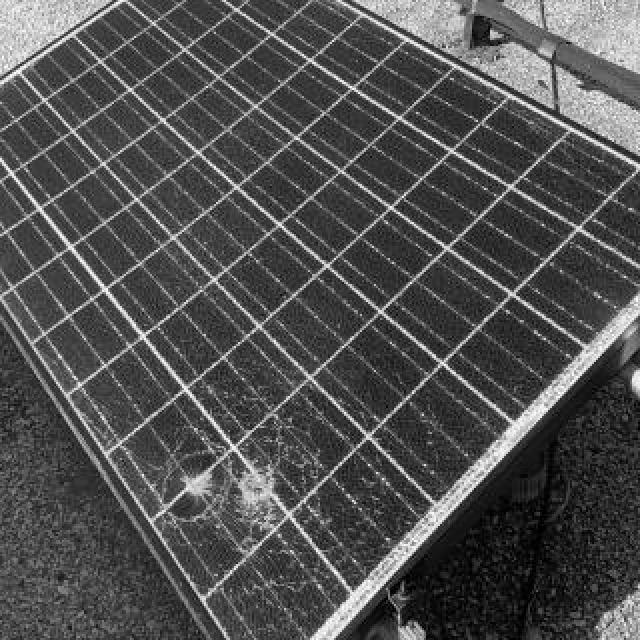Physical-damage: (123, 370, 379, 601)
